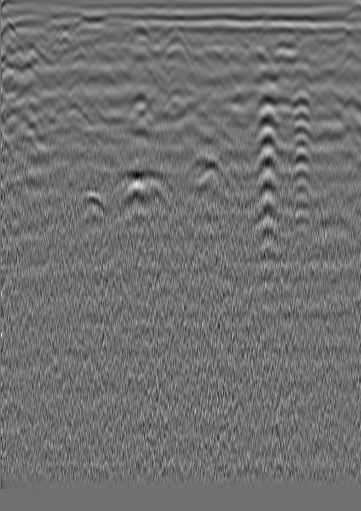가스: (69, 187, 108, 226)
상수: (313, 33, 333, 53)
오수: (24, 38, 44, 58)
우수: (168, 24, 188, 44)
